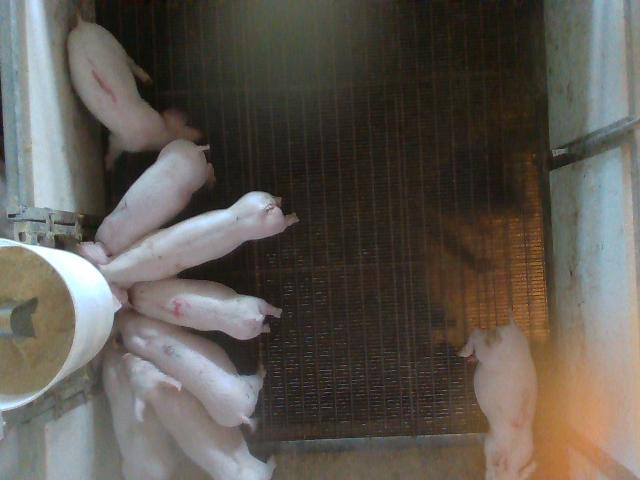pig-1: (68, 18, 201, 168)
pig-3: (460, 319, 538, 478)
pig-4: (129, 278, 282, 340)
